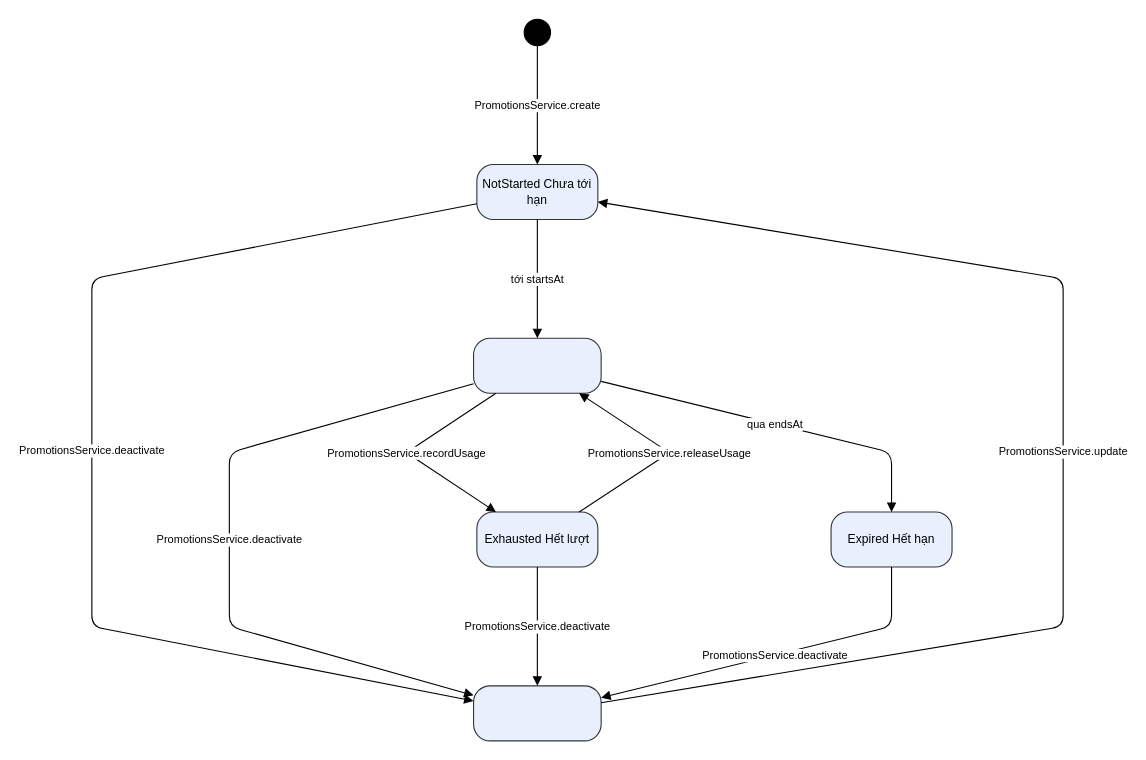
This 1146x760 diagram has some shape labels left out. The shapes that lost their labels are listed below. From the top down, each one's centre as x and y in pixels, then its label:
At pixel 536 365: "Running Đang dùng được".
At pixel 536 713: "Disabled Bị vô hiệu hóa".
